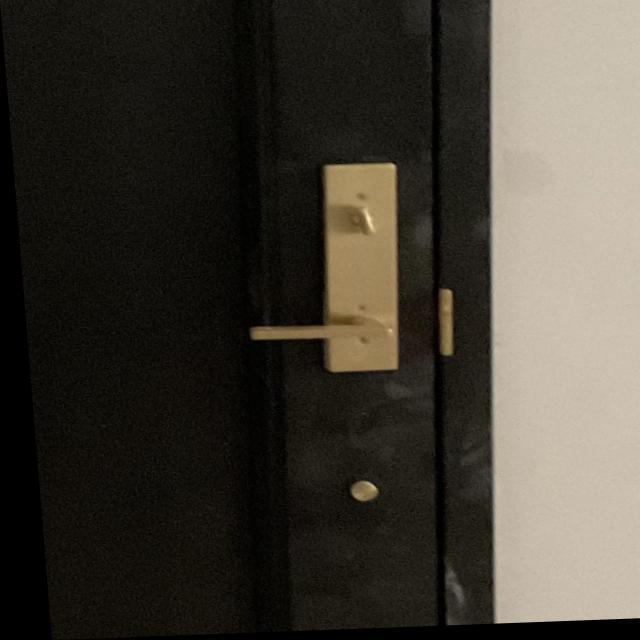door_handle: (235, 308, 397, 360)
